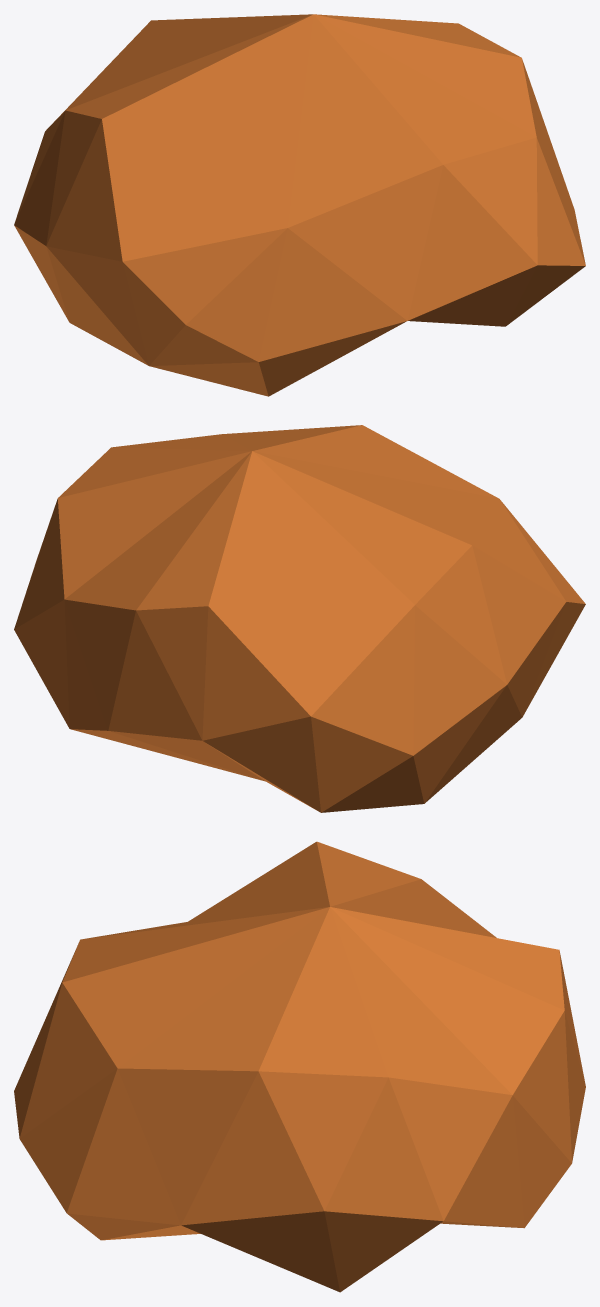
File: BoulderOrange2.fbx
3 renders of one model, top to bottom at view 1: azimuth 30°, elevation 25°; view 2: azimuth 150°, elevation 25°; view 3: azimuth 270°, elevation 25°, orthographic. The views are drawn at different scales.
Parts seen in each view (by area): view 1: Cone; view 2: Cone; view 3: Cone.
Boxes of the visible parts, bbox=[...] form: Cone: bbox=[14, 14, 585, 396]; Cone: bbox=[14, 425, 585, 812]; Cone: bbox=[14, 841, 585, 1292].
Bounding box in the file's own units: 0.9892 × 0.5934 × 0.9119.
